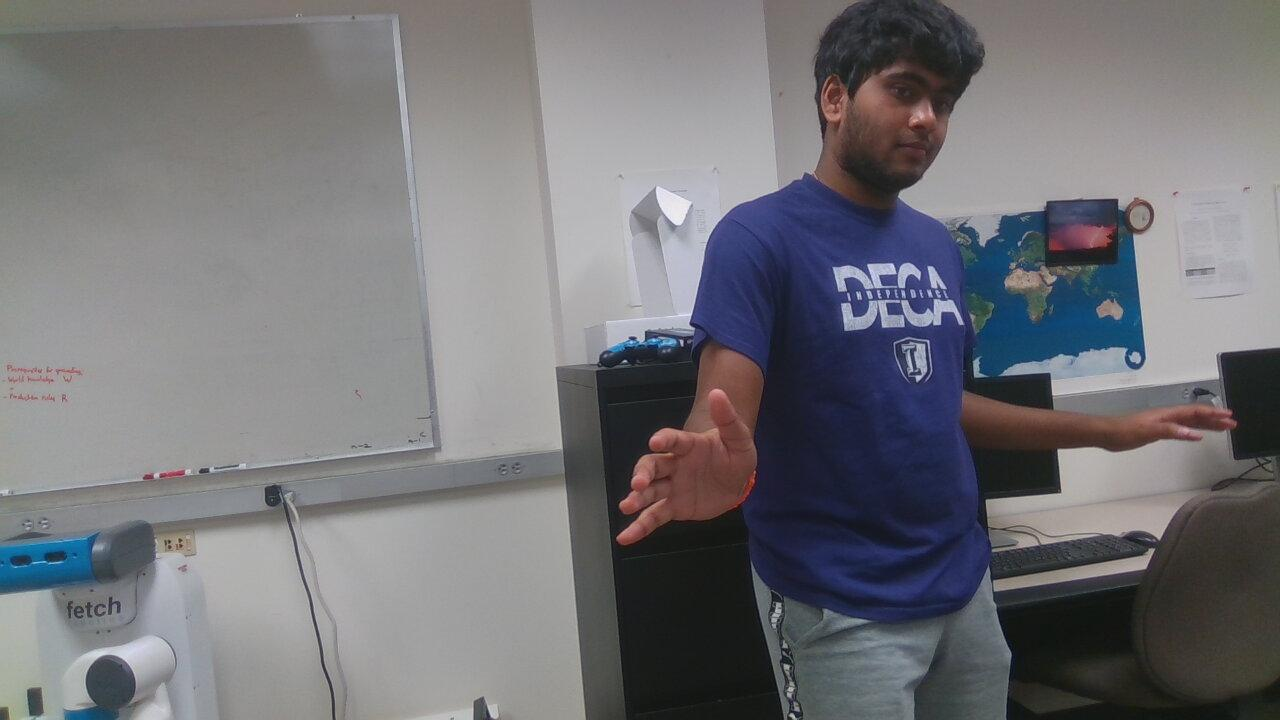hands: (617, 373, 764, 550), (1107, 365, 1243, 458)
